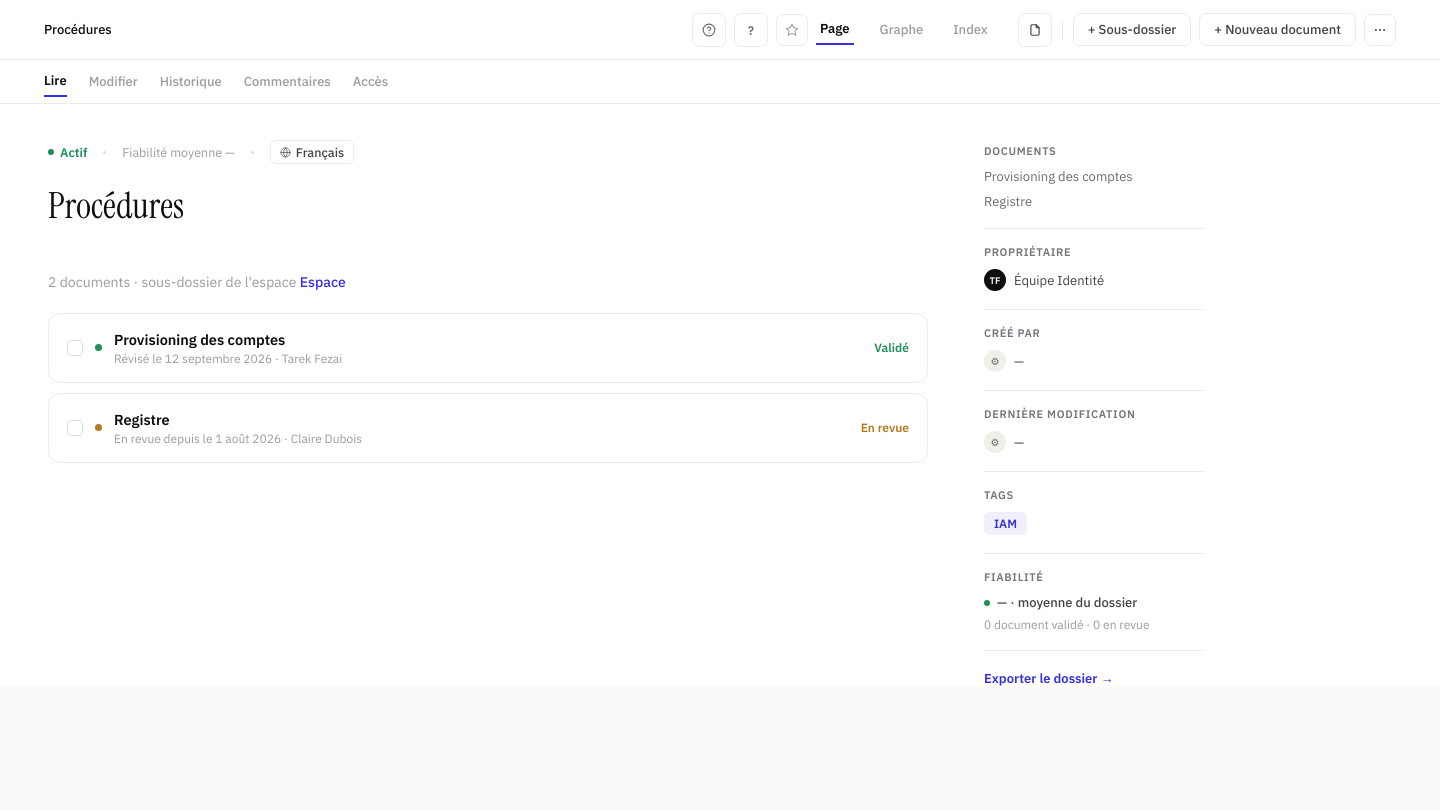
Scenario: FolderPage › contributeur autorisé à supprimer : le menu confirme dans la page
The image size is (1440, 810).
Click the button named "Autres actions du dossier": [1380, 30] box [1364,14,1396,46]
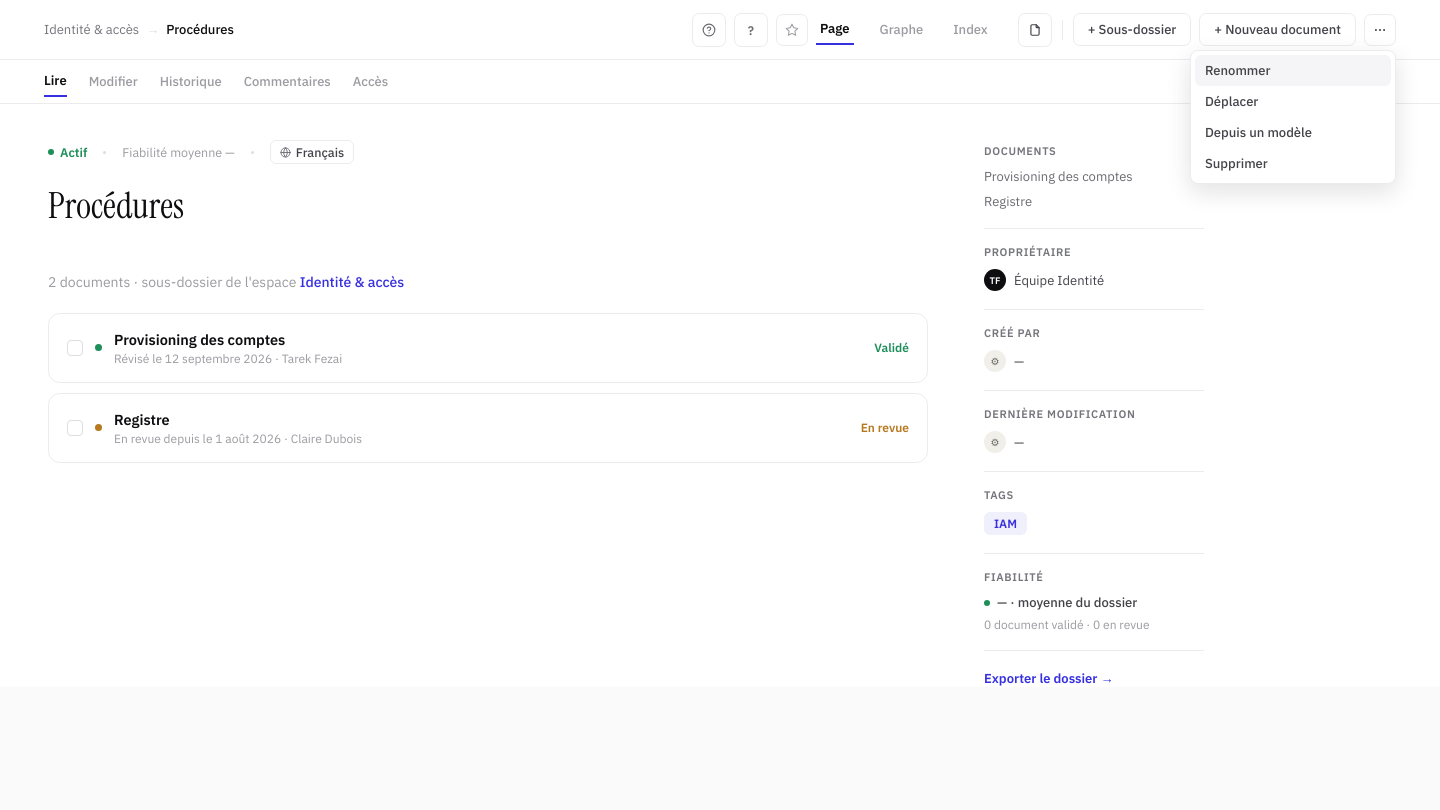
Click the menu item "Supprimer": [1293, 163] box [1195,148,1391,178]
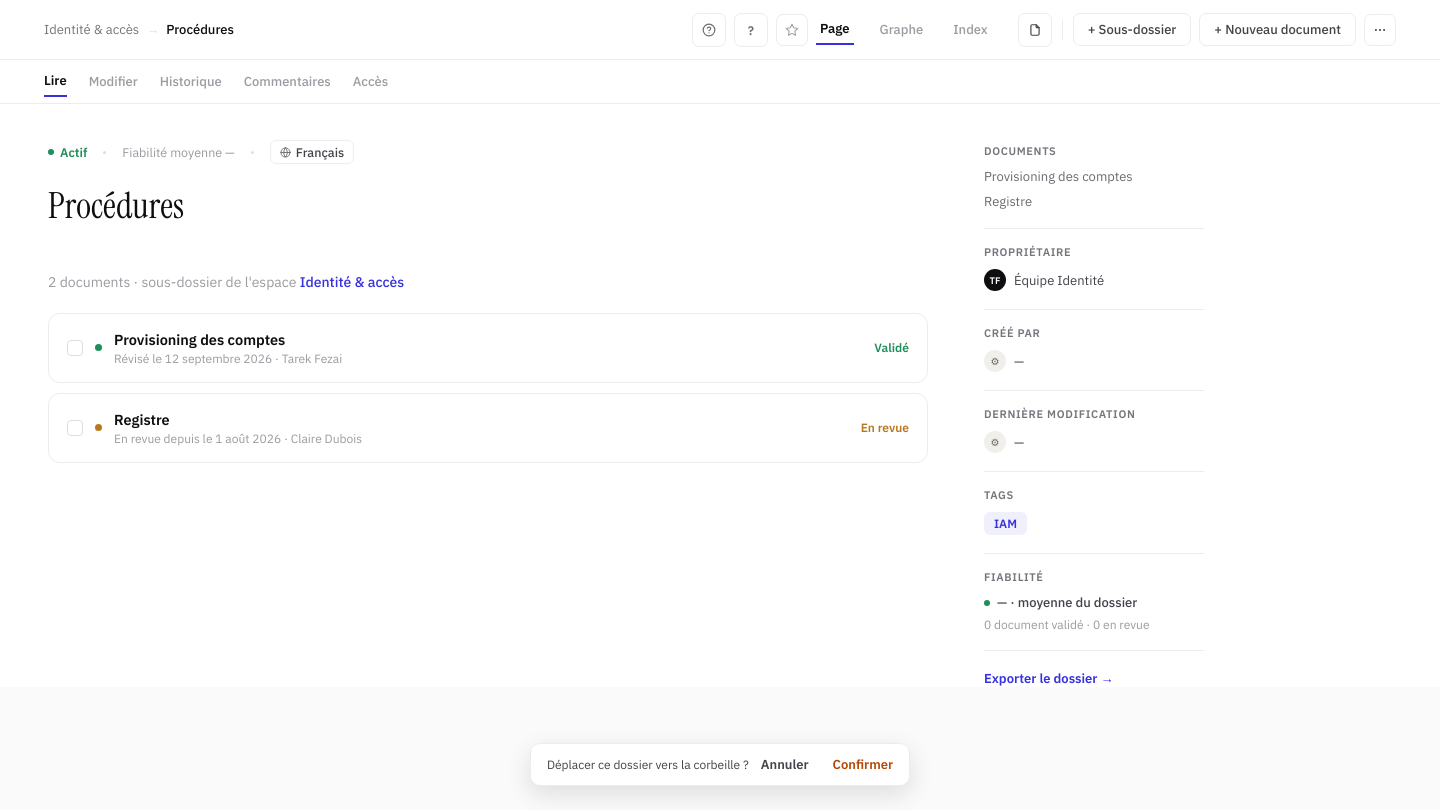
Expected: the text "Déplacer ce dossier vers la corbeille ?" is shown, [547,757,749,772]
Expected: the button with test id "folder-delete-confirm" is shown, [833,756,893,773]
